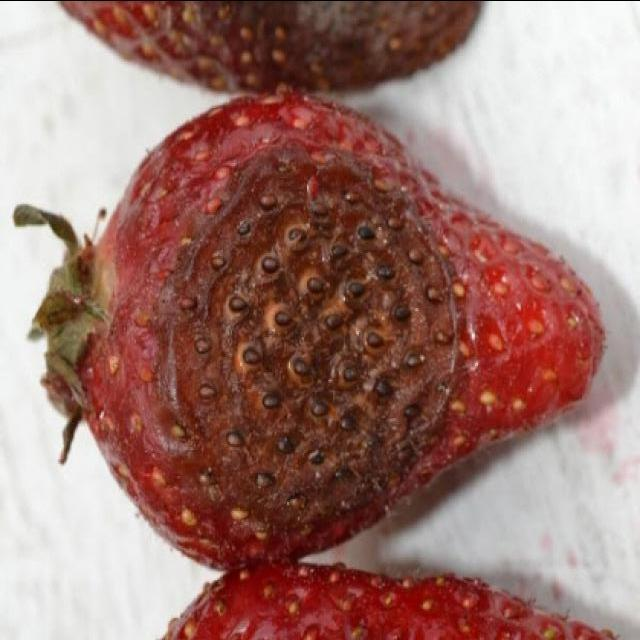Anthracnose Fruit Rot: (149, 135, 465, 539)
